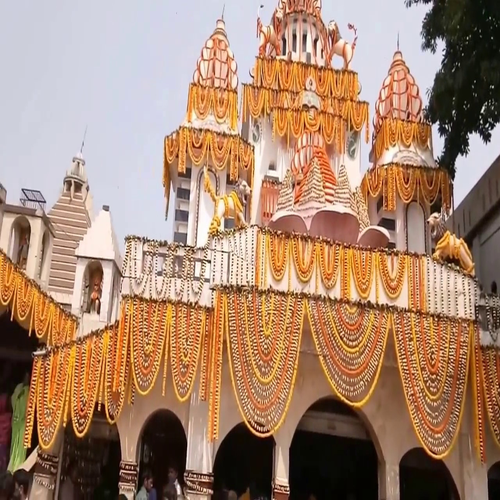Temple: (147, 6, 464, 408)
